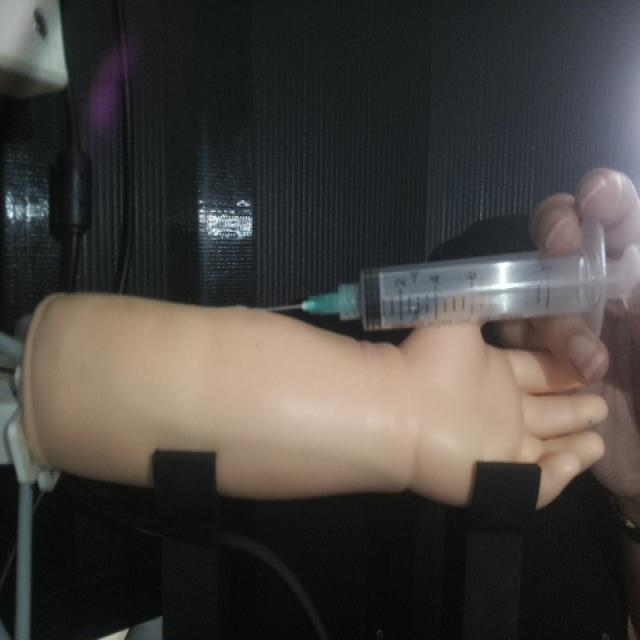Below 15 degrees: (262, 218, 638, 334)
